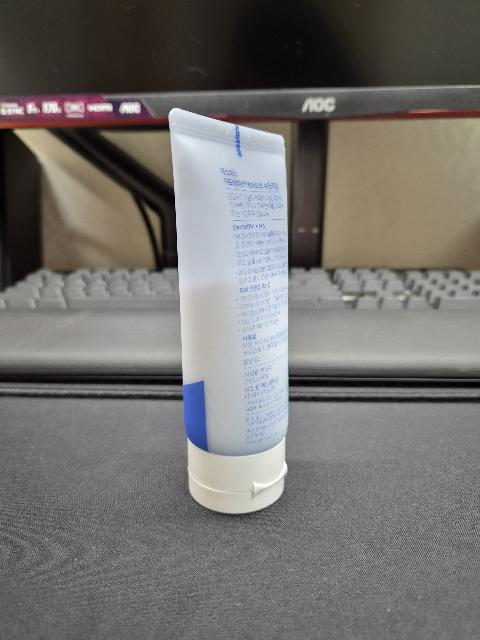handcream: (168, 108, 289, 514)
